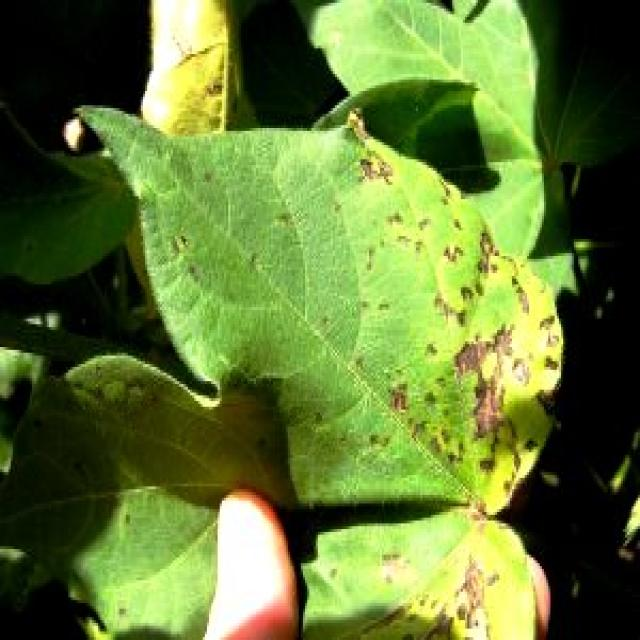Bacterial Blight: (398, 281, 536, 450)
